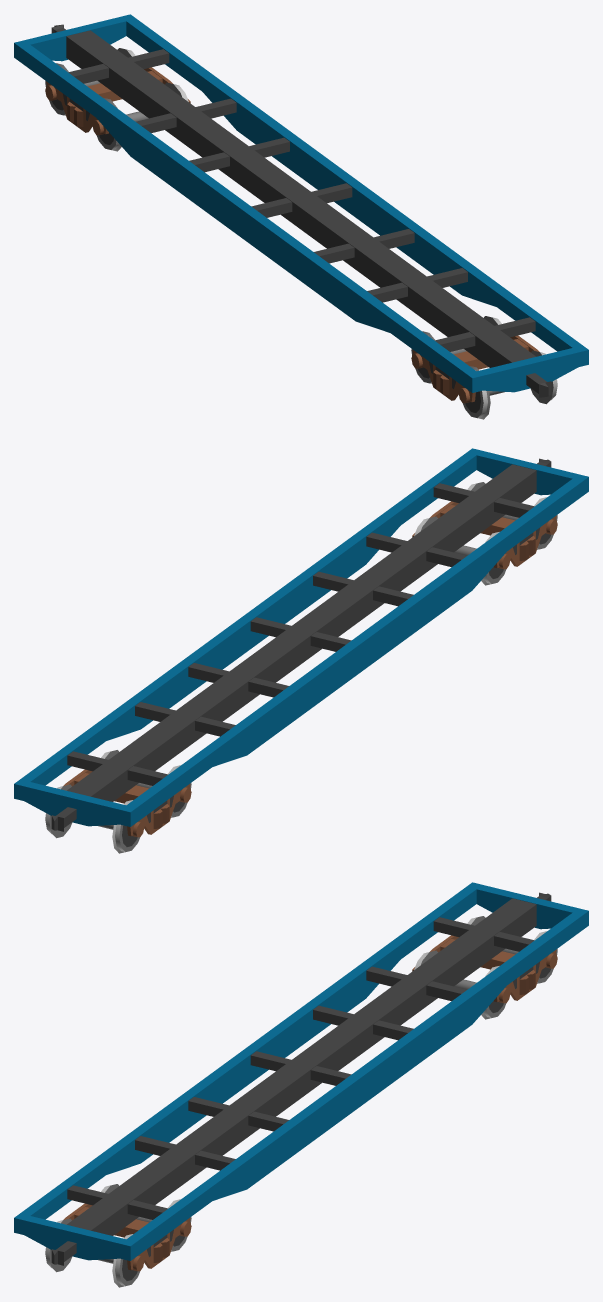
The model's file is platform_2A.glb.
The picture shows the model from 3 angles, top to bottom: view 1: azimuth 30°, elevation 25°; view 2: azimuth 150°, elevation 25°; view 3: azimuth 330°, elevation 25°; orthographic projection.
Visible parts, largest first — view 1: platform_2A; view 2: platform_2A; view 3: platform_2A.
Part boxes in pixels (box(x1,y1,x2,y2)): platform_2A: box(14, 14, 588, 419); platform_2A: box(14, 448, 588, 853); platform_2A: box(14, 882, 588, 1287).
Size of the model in its own units: 2.7 by 1.39 by 19.82.
1 material, 1 textured.
